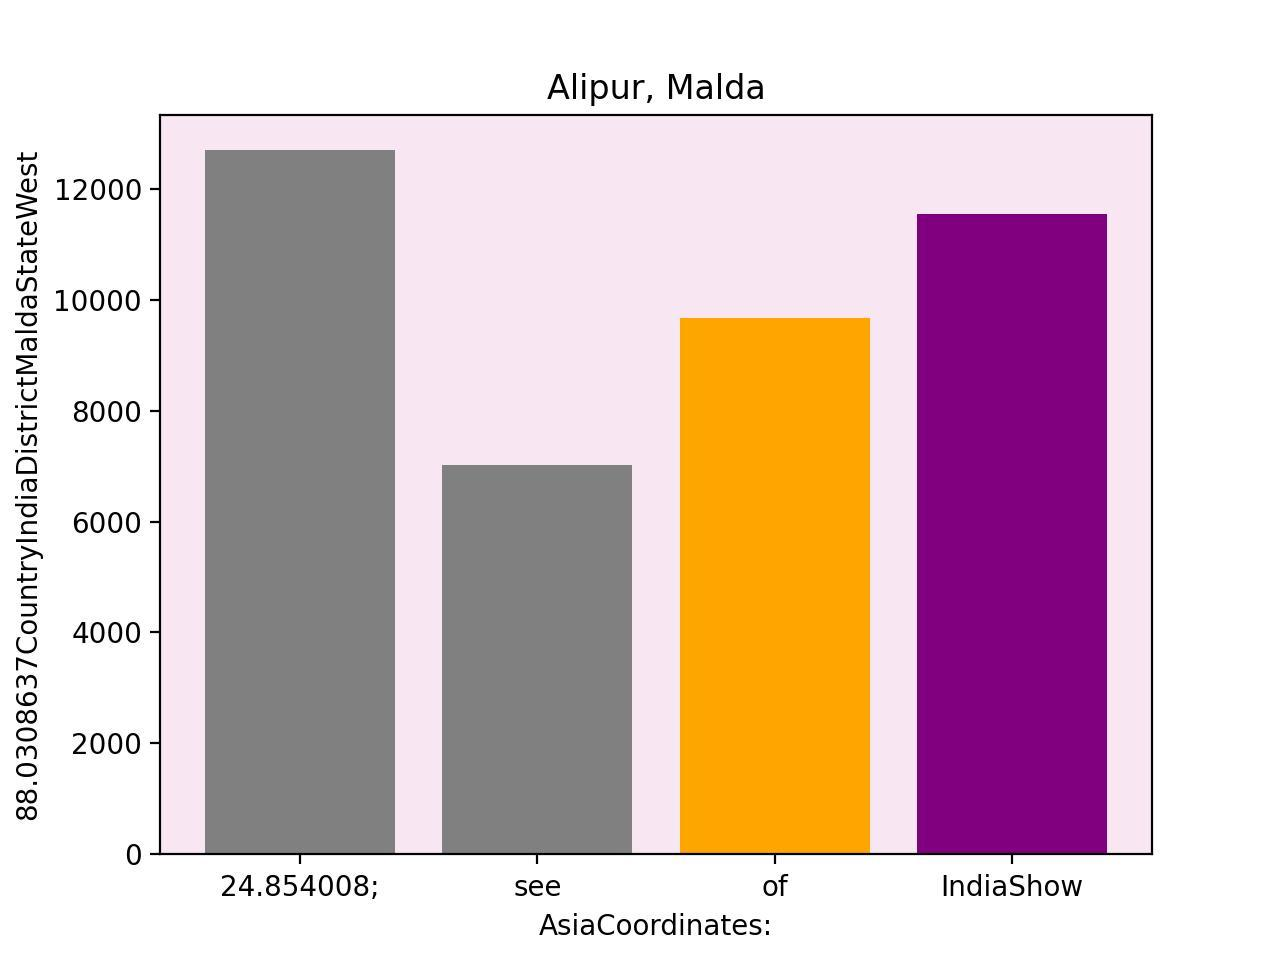axis: (14, 149, 142, 871)
rectangle: (205, 150, 395, 854), (917, 214, 1107, 854), (679, 318, 870, 854), (442, 466, 633, 854)
